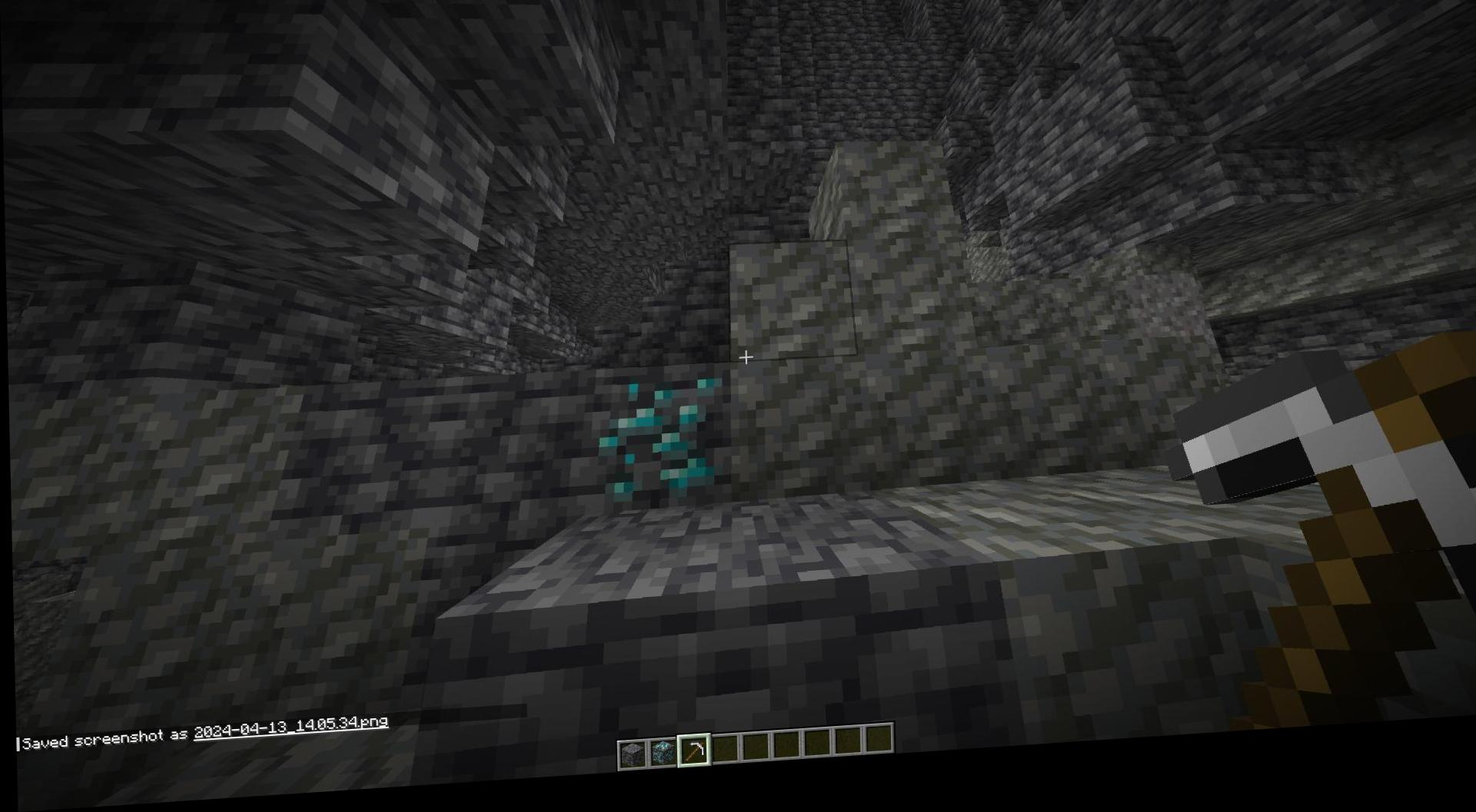diamond ore: (594, 382, 726, 513)
